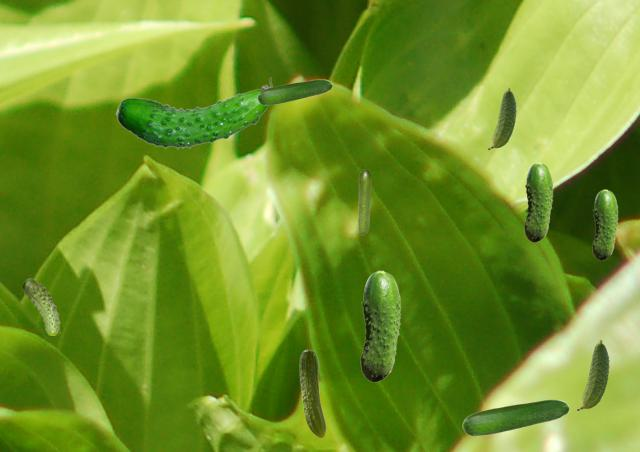cucumber: (115, 77, 272, 148), (360, 270, 400, 381), (462, 399, 568, 435), (299, 349, 325, 437), (524, 162, 552, 241), (577, 339, 608, 409), (22, 278, 59, 334), (257, 79, 331, 104), (592, 189, 617, 259), (488, 87, 515, 148), (358, 169, 370, 234)
